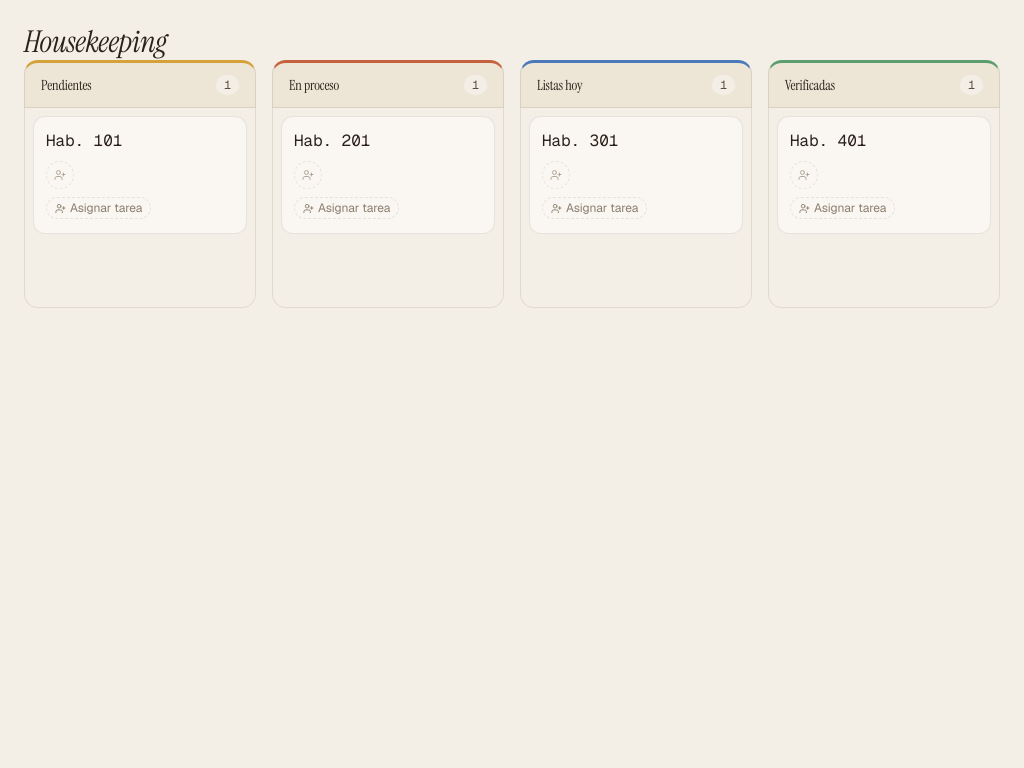
Test: HousekeepingPage › MANAGER role sees "Asignar tarea" CTA and clicking opens TaskAssignmentDrawer
Click the button with test id "assign-task-101": [99, 208] box [46,197,151,219]
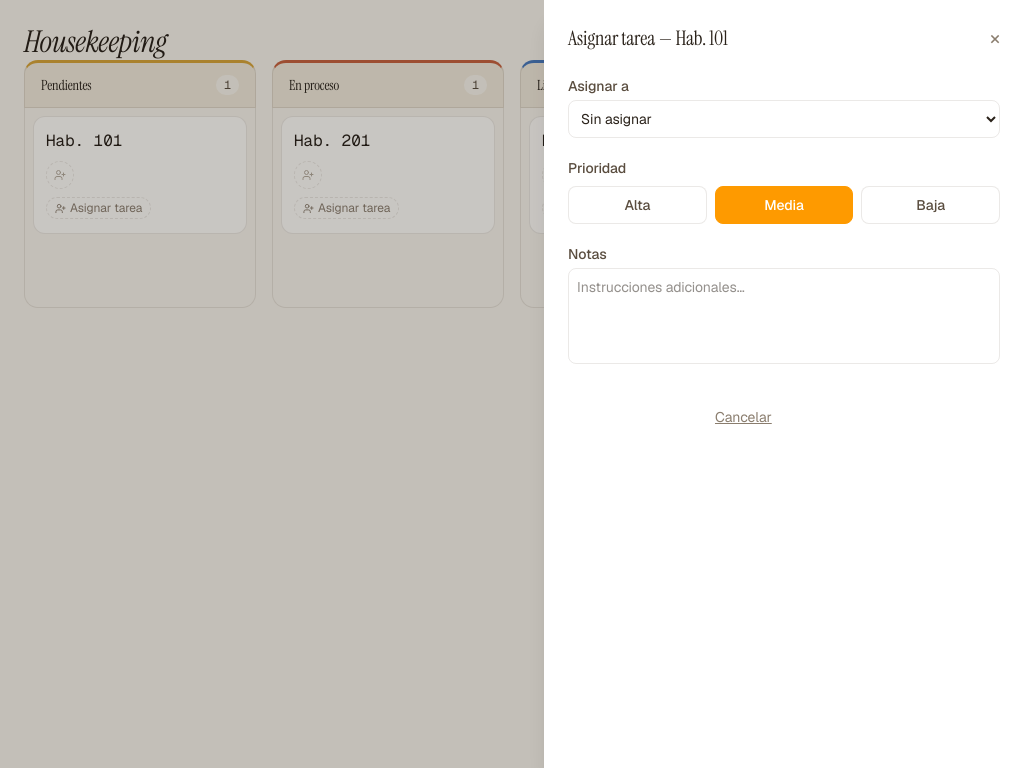
Expected: the element with test id "task-assignment-drawer" is shown, [544,0,1023,767]
